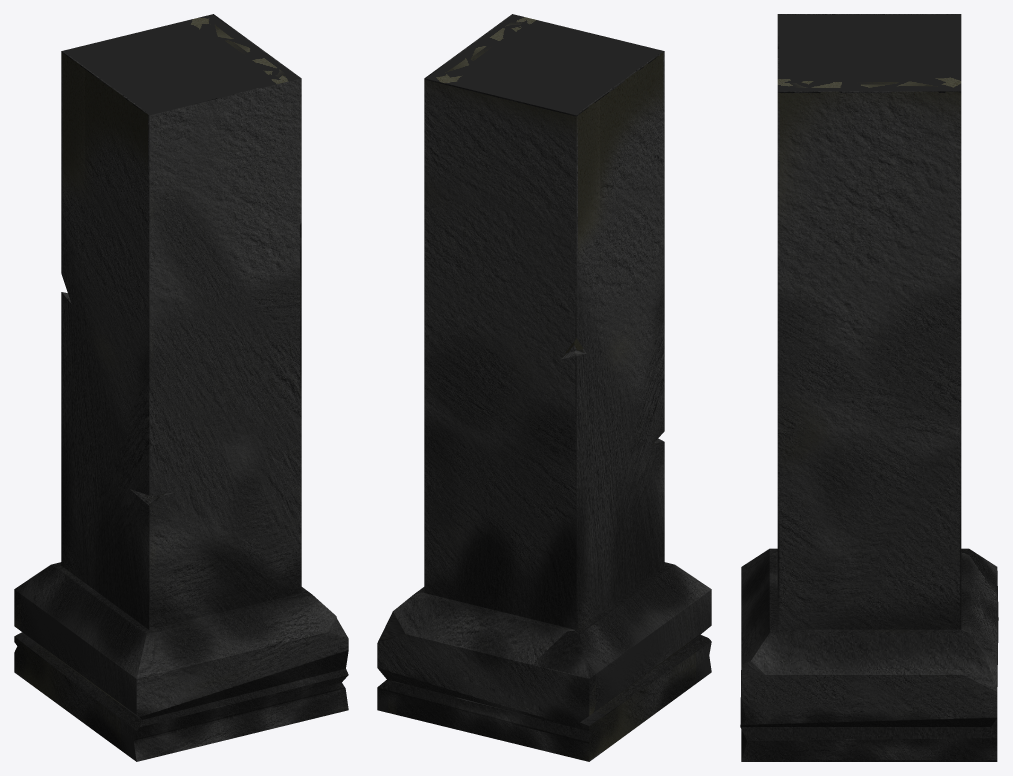
The model's file is stand.glb.
3 renders of one model, left to right at view 1: azimuth 30°, elevation 25°; view 2: azimuth 150°, elevation 25°; view 3: azimuth 270°, elevation 25°, orthographic. The views are drawn at different scales.
Parts seen in each view (by area): view 1: Cube; view 2: Cube; view 3: Cube.
Boxes of the visible parts, left/top/right/bottom form: Cube: left=14, top=14, right=348, bottom=761; Cube: left=377, top=14, right=711, bottom=761; Cube: left=740, top=14, right=998, bottom=761.
Bounding box in the file's own units: 9.45 × 26.62 × 9.51.
1 material, 1 textured.
